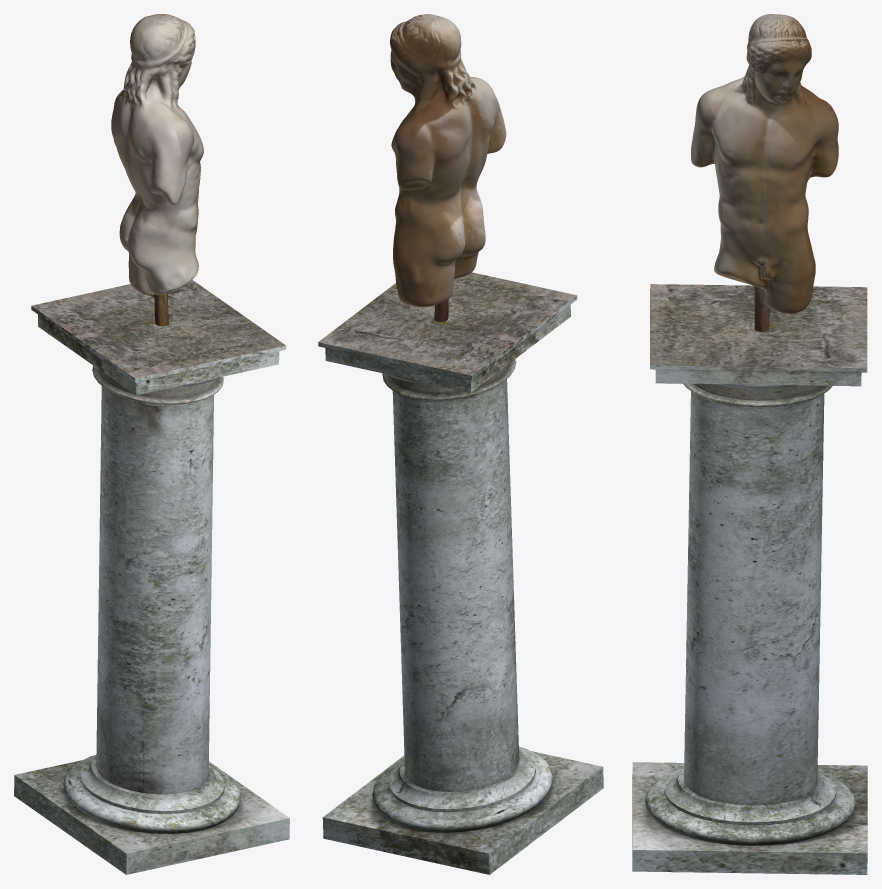
3 renders of one model, left to right at view 1: azimuth 30°, elevation 25°; view 2: azimuth 150°, elevation 25°; view 3: azimuth 270°, elevation 25°, orthographic. The views are drawn at different scales.
Visible parts, largest first — view 1: 10409_Doric_Column_v1_iterations-2, 223; view 2: 10409_Doric_Column_v1_iterations-2, 223; view 3: 10409_Doric_Column_v1_iterations-2, 223.
Boxes of the visible parts, x1,y1,x2,y2 form: 10409_Doric_Column_v1_iterations-2: [14, 279, 289, 874]; 223: [111, 14, 203, 326]; 10409_Doric_Column_v1_iterations-2: [318, 272, 603, 874]; 223: [390, 14, 506, 321]; 10409_Doric_Column_v1_iterations-2: [632, 284, 867, 874]; 223: [691, 14, 838, 331].
Size of the model in its own units: 62.63 by 280 by 72.38.
